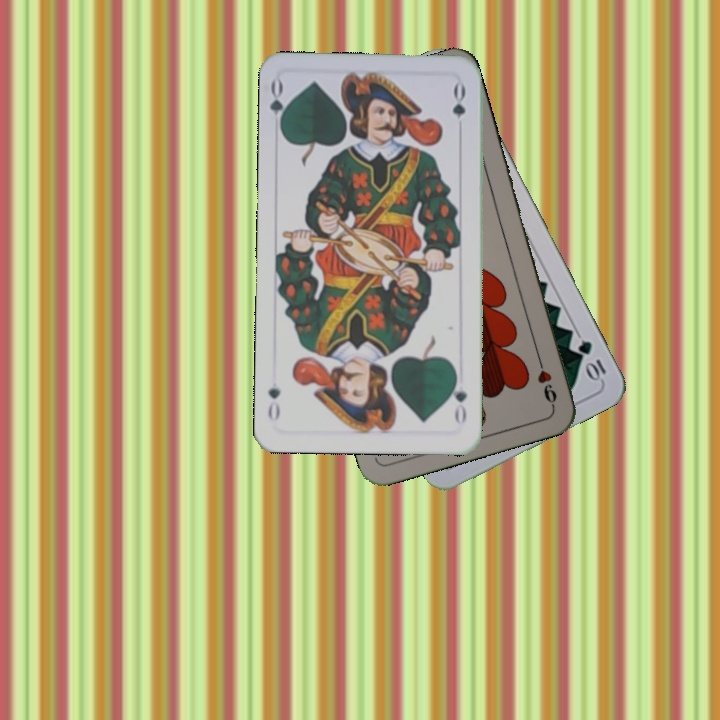G10: (574, 336, 609, 384)
GO: (265, 77, 293, 136), (447, 370, 470, 428)
H9: (533, 351, 560, 409)
